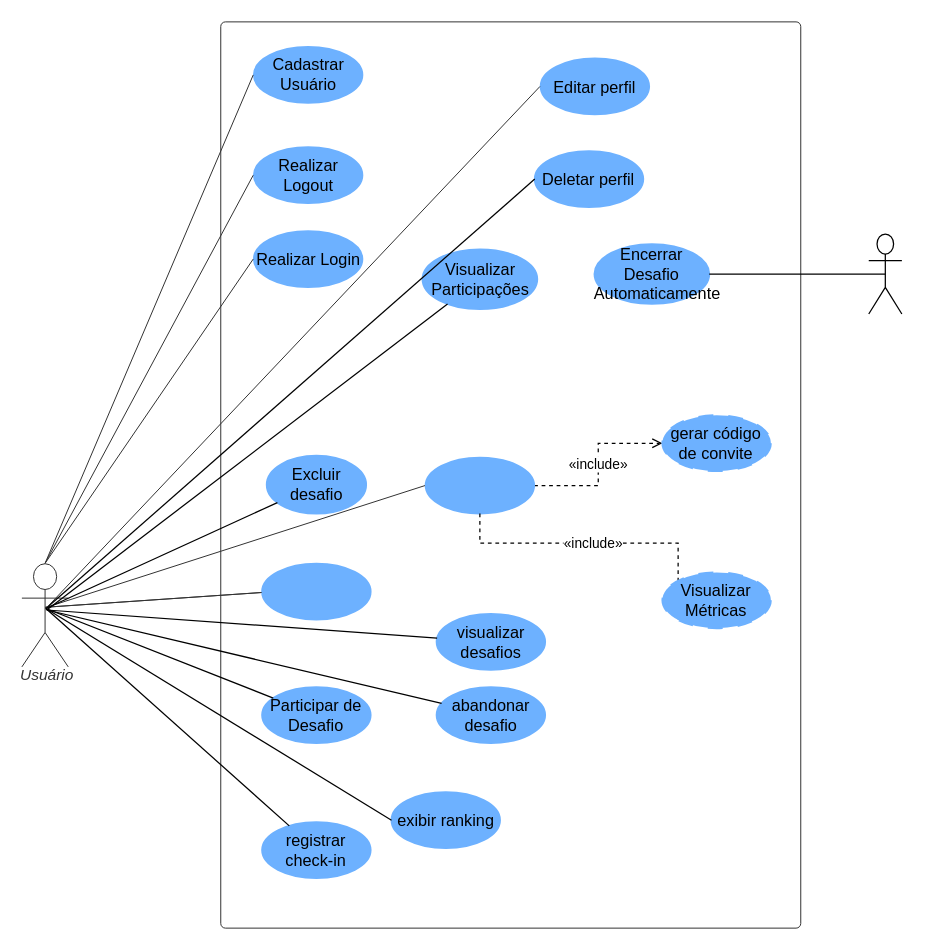
Some shapes in this 938 by 950 pixel diagram are drawn without their labels. The box of each missing label's shape, as (x1, y1, x2, y2) in pixels:
Criar desafio: (424, 456, 534, 514)
Cron Job: (868, 233, 902, 314)
Editar desafio: (261, 562, 371, 620)
